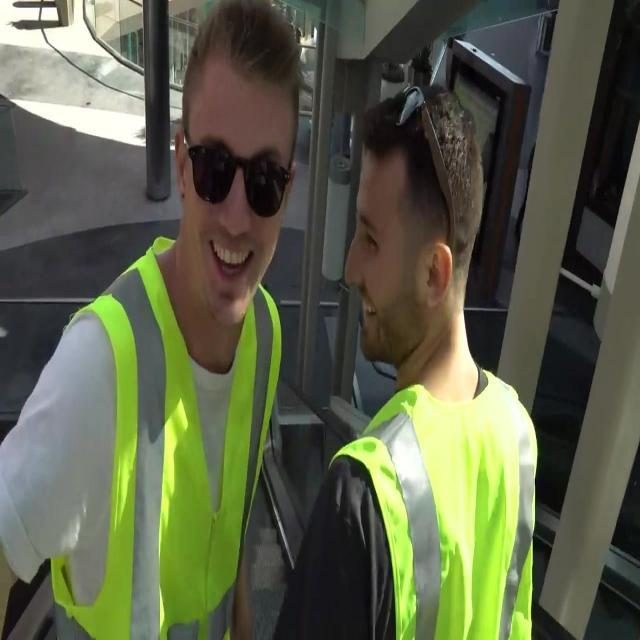reflective_jacket: (45, 247, 286, 638), (328, 362, 542, 639)
